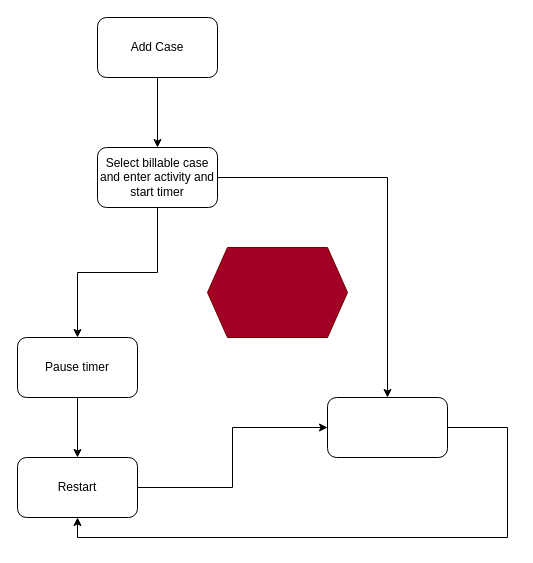
This 533x563 diagram has some shape labels left out. Here are the shapes that lost their labels. From the top down, the centre of each, then its label:
At (x=277, y=292): "Prevent browser from closing before pause or stop".
At (x=387, y=427): "Stop timer".
